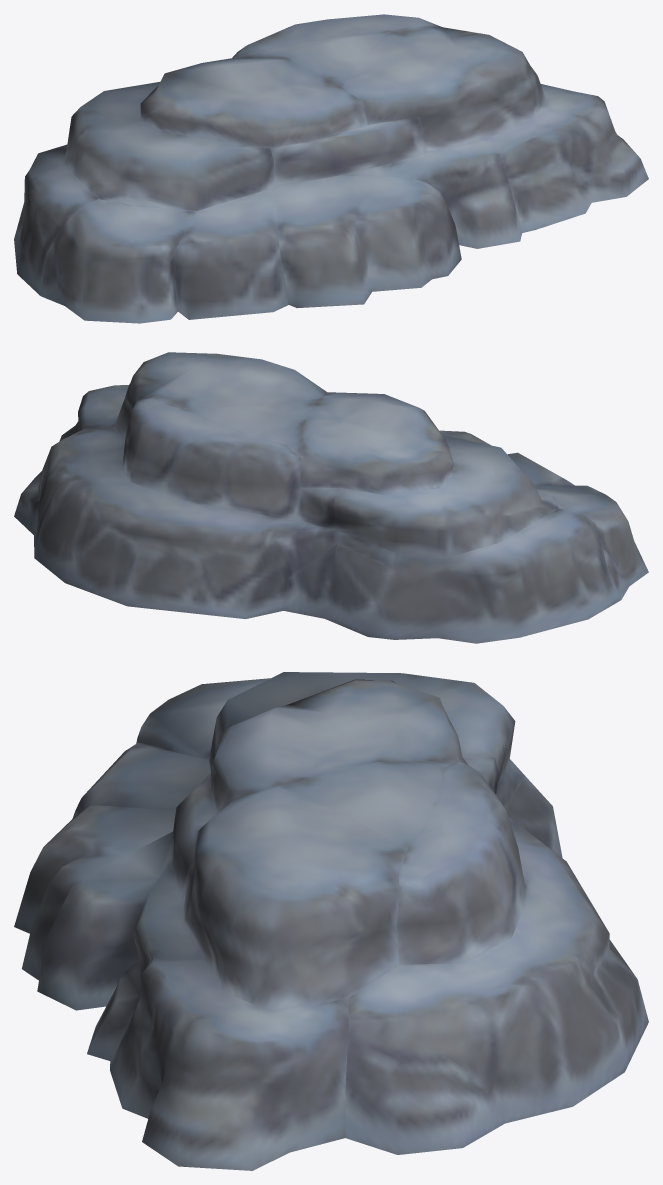
The model's file is rzjd_shitou_02.FBX.
3 renders of one model, top to bottom at view 1: azimuth 30°, elevation 25°; view 2: azimuth 150°, elevation 25°; view 3: azimuth 270°, elevation 25°, orthographic. The views are drawn at different scales.
Visible parts, largest first — view 1: rzjd_shitou_02; view 2: rzjd_shitou_02; view 3: rzjd_shitou_02.
Boxes of the visible parts, <box> form: rzjd_shitou_02: <box>14,14,648,323</box>; rzjd_shitou_02: <box>14,352,648,643</box>; rzjd_shitou_02: <box>14,672,648,1170</box>.
Size of the model in its own units: 1436 by 335 by 945.
